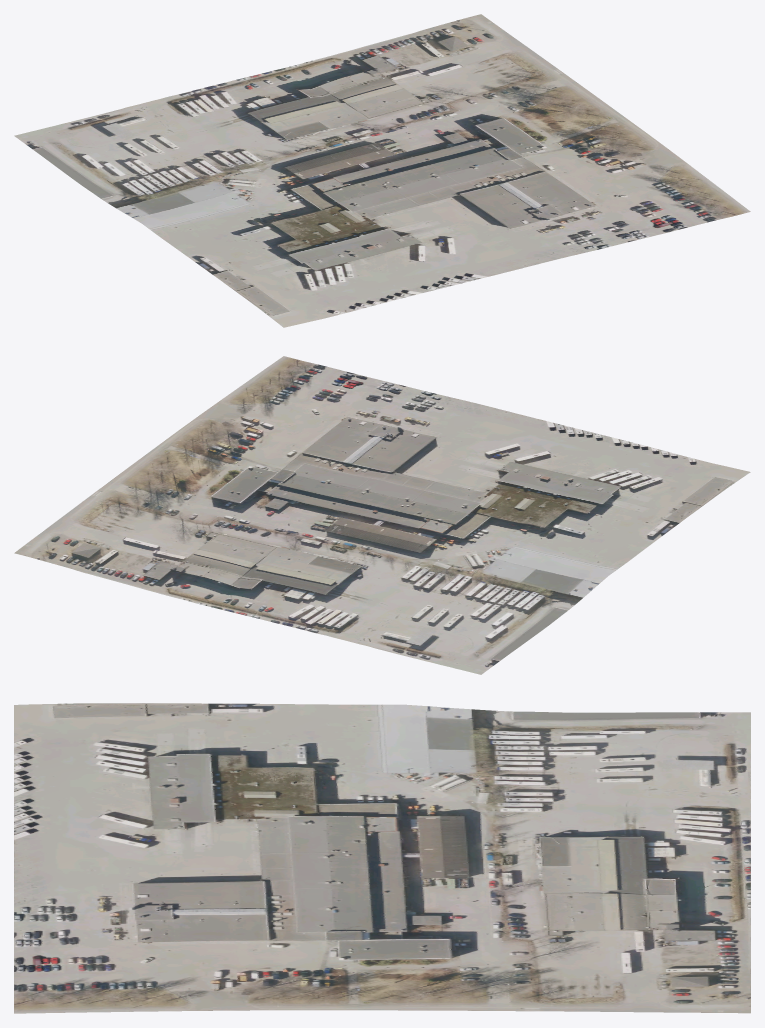
File: CM_Terrain_24489025_6818770.fbx
3 views of the same model, one above another, from view 1: azimuth 30°, elevation 25°; view 2: azimuth 150°, elevation 25°; view 3: azimuth 270°, elevation 25° (orthographic). The views are drawn at different scales.
Parts seen in each view (by area): view 1: CM_Terrain_24489025_6818770_LOD0; view 2: CM_Terrain_24489025_6818770_LOD0; view 3: CM_Terrain_24489025_6818770_LOD0.
Part boxes in pixels (x1,y1,x2,y2): CM_Terrain_24489025_6818770_LOD0: (14,14,750,327); CM_Terrain_24489025_6818770_LOD0: (14,356,750,674); CM_Terrain_24489025_6818770_LOD0: (14,703,750,1013).
Size of what is drawn, in the model's own units: 205 by 4.31 by 205.
